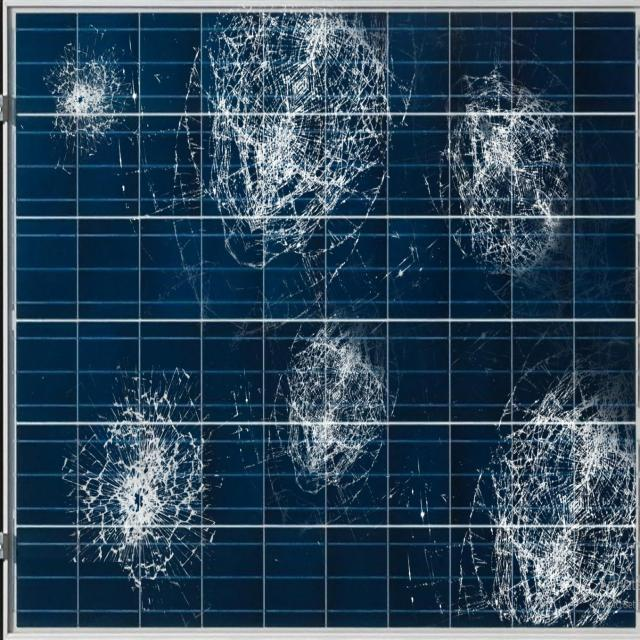Anomaly Solar Panel: (6, 2, 640, 636)
Structural Damage: (169, 11, 418, 290), (448, 345, 640, 628), (38, 366, 217, 624), (434, 58, 579, 289), (245, 321, 409, 506), (28, 48, 135, 152)
